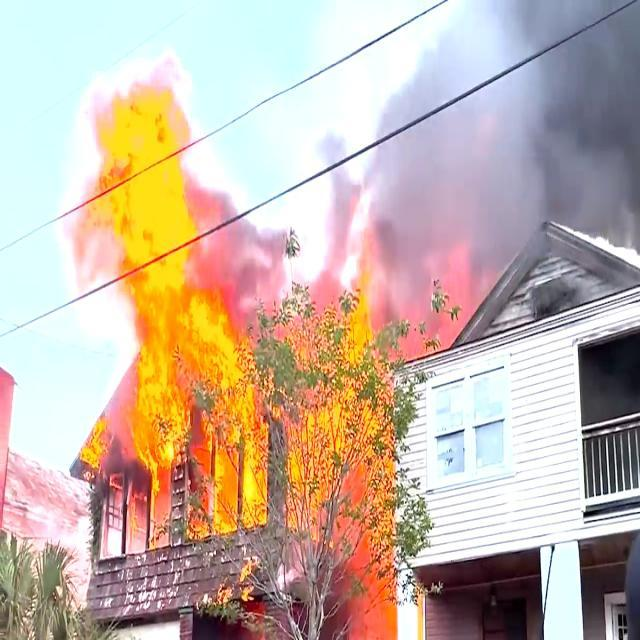Fire: (93, 100, 264, 526), (298, 314, 395, 640)
Smoke: (345, 0, 640, 225)
